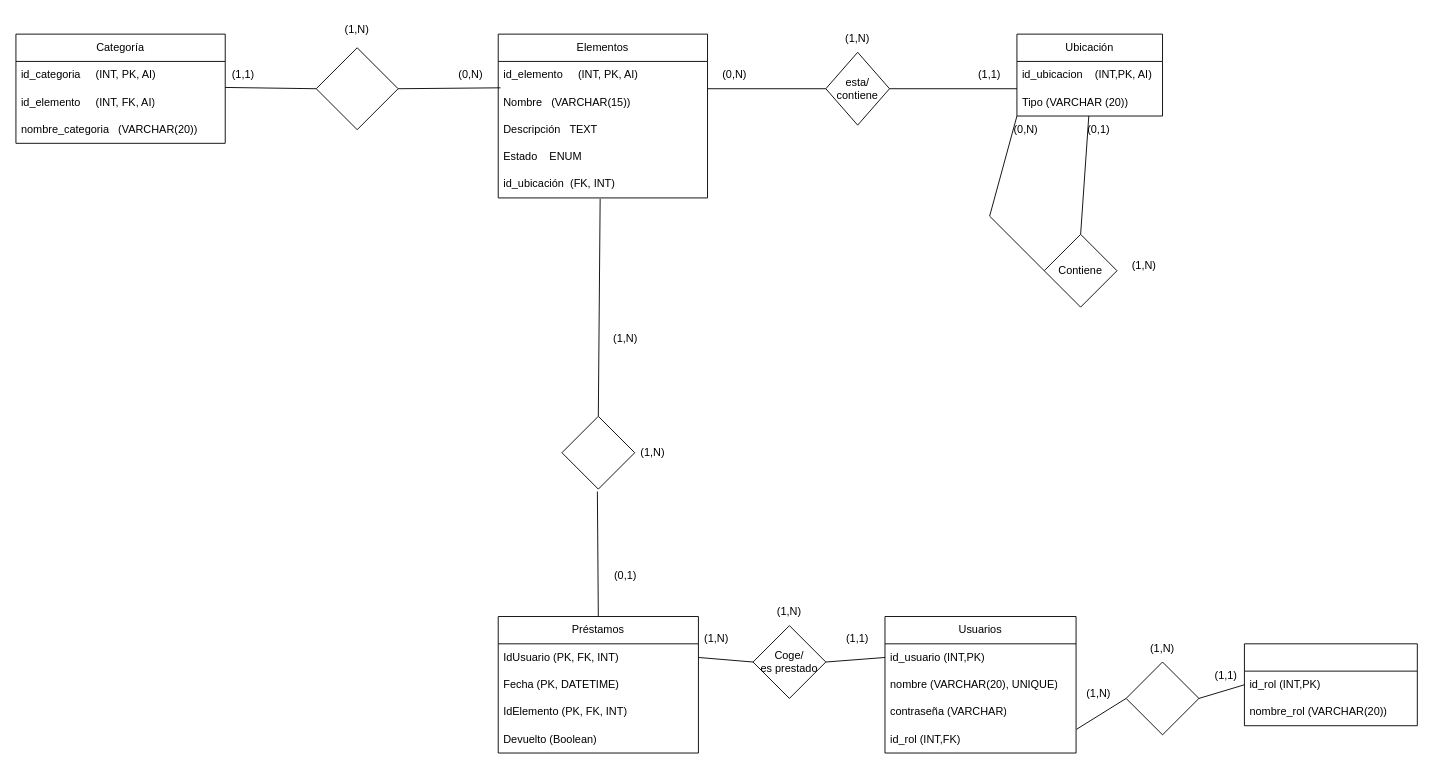
Image size: 1433x769. Some labels were removed from this diagram. The shapes that lost their labels are listed below. From the top down, each one's box as (x1, y1, x2, y2) in pixels, then its label:
(315, 47, 398, 130): pertenece/ tiene
(561, 415, 635, 489): Es prestado
(1125, 661, 1199, 735): tiene
(1244, 643, 1417, 726): roles
